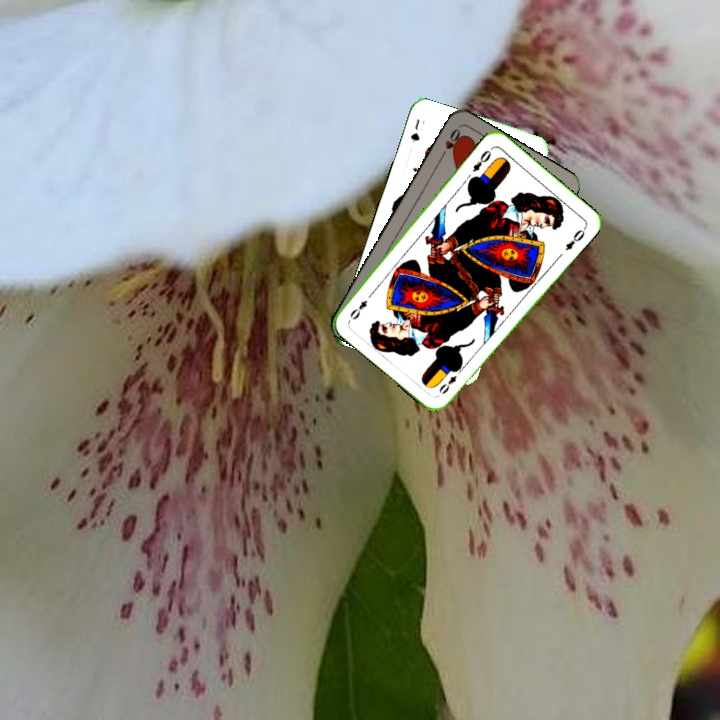EO: (468, 143, 496, 175), (435, 371, 460, 397)
GU: (406, 115, 427, 145)
HO: (437, 124, 465, 161)
